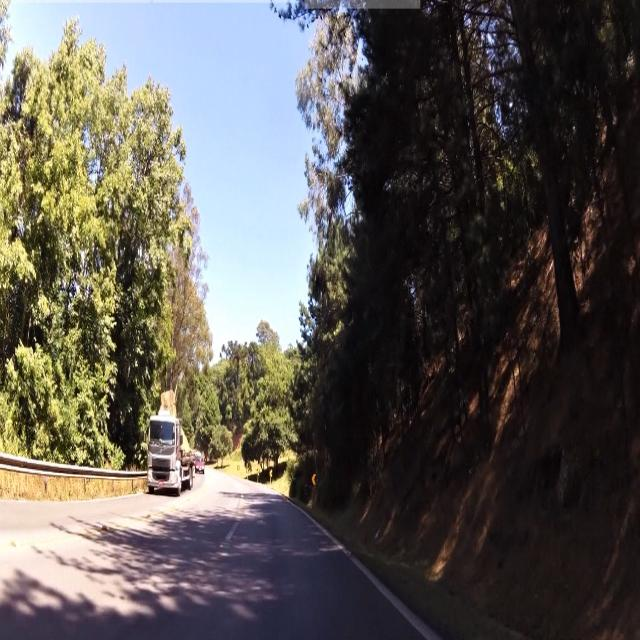Del: (310, 471, 318, 487)
